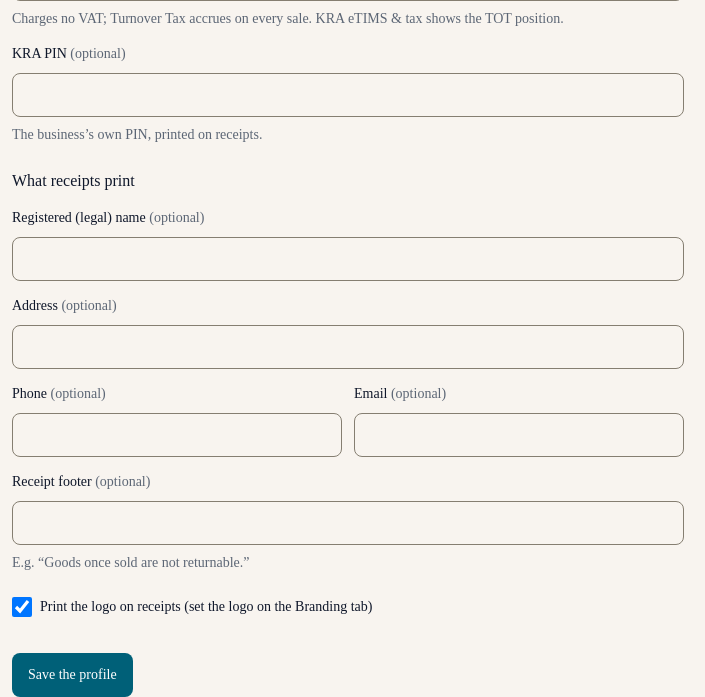
Test: the business profile › keeps everything typed when the server refuses
(page scrolled)
Type "Asante sana" into the field labelled "Receipt footer (optional)" at (348, 523), box [12,501,684,545]
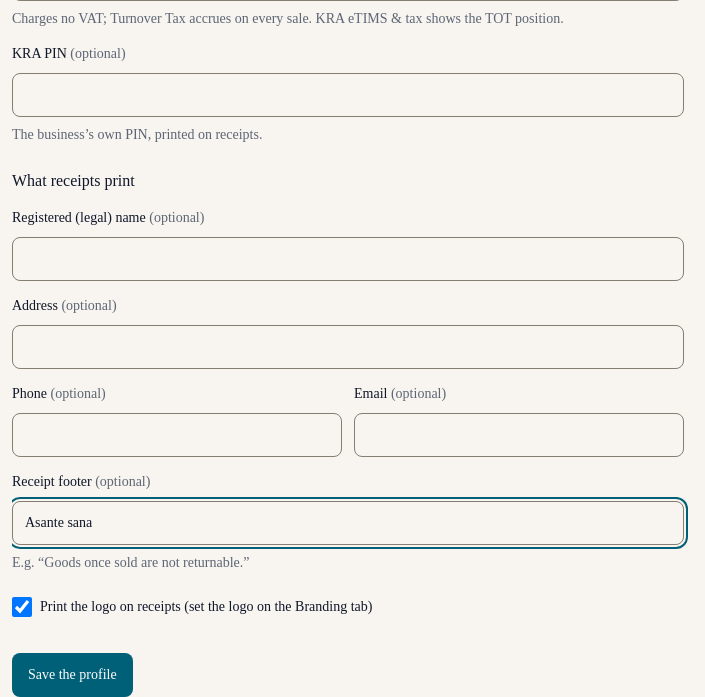
Click the button "Save the profile" at (72, 675), box [12,653,133,696]
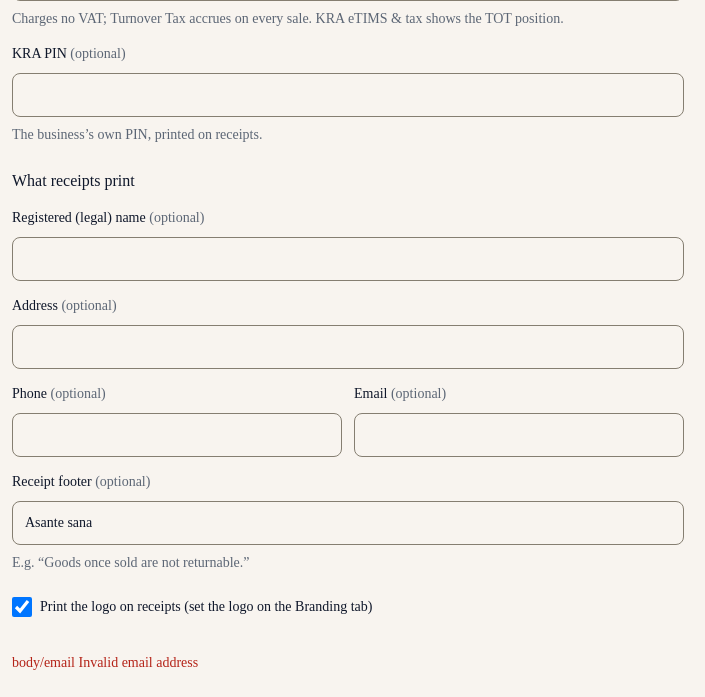
Expected: the message shows "Invalid email address", [12,655,198,670]
